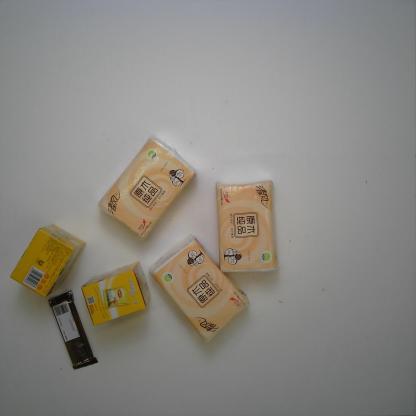Chocolate: (48, 288, 100, 370)
Instant Drink: (9, 222, 87, 301), (78, 260, 152, 327)
Tissue: (148, 235, 250, 344), (96, 136, 197, 242), (214, 178, 279, 275)
